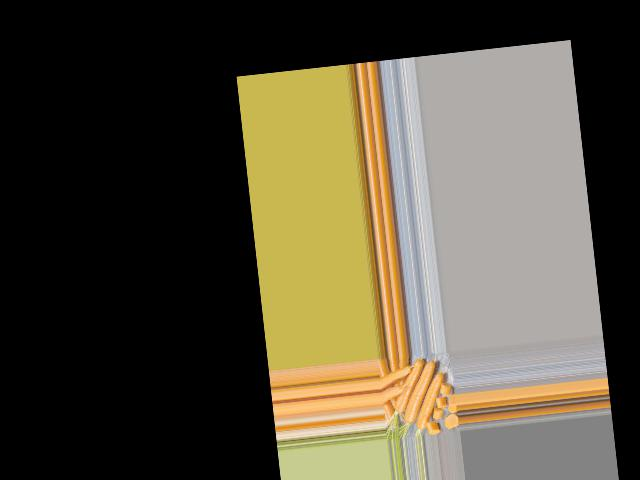carrot: (388, 357, 428, 414)
